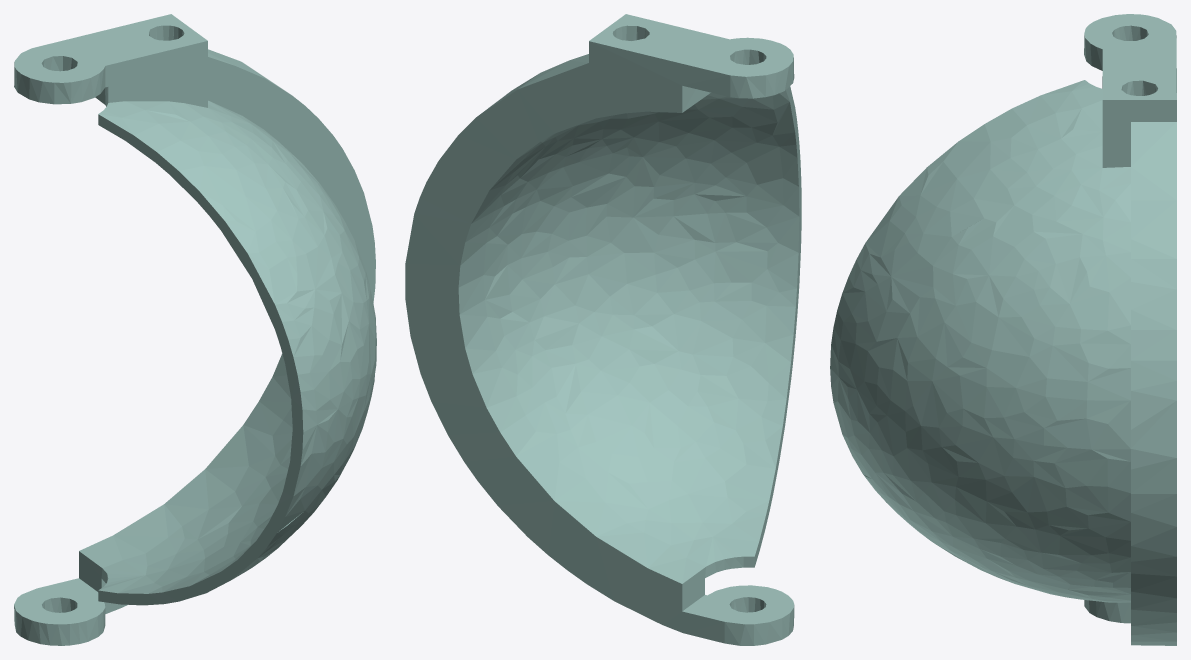
Rendered from i02_head_left_bottom_eyelid_visual.obj.light.glb.
3 renders of one model, left to right at view 1: azimuth 30°, elevation 25°; view 2: azimuth 150°, elevation 25°; view 3: azimuth 270°, elevation 25°, orthographic.
Bounding box in the file's own units: 0.2114 × 0.3195 × 0.1761.
